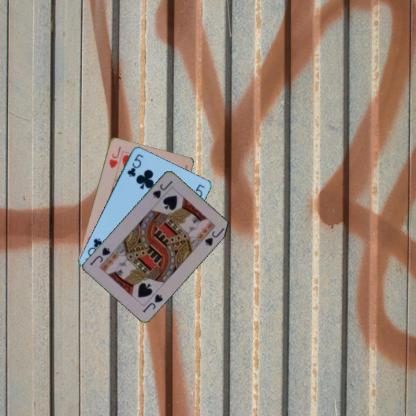5c: (124, 151, 145, 178)
Jh: (107, 144, 122, 170)
Js: (140, 291, 164, 314), (150, 178, 174, 200)
